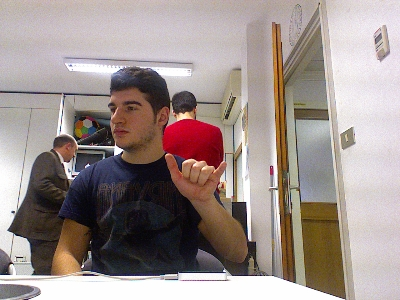六六六: (162, 150, 227, 202)
